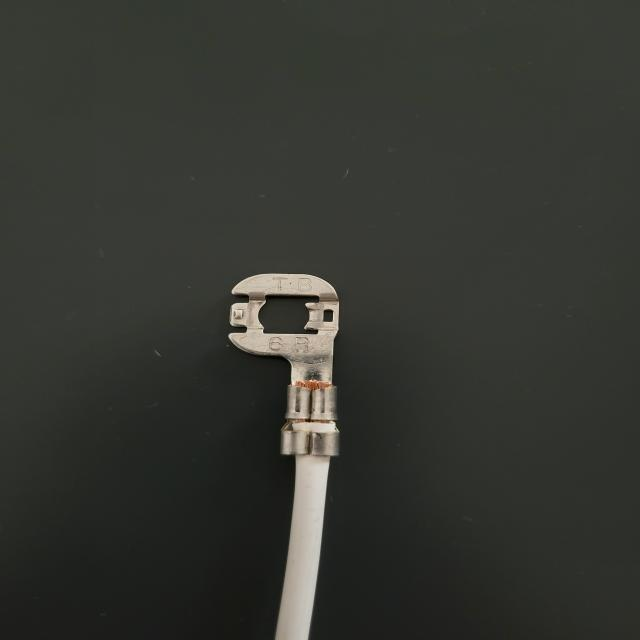good: (4, 1, 630, 640)
